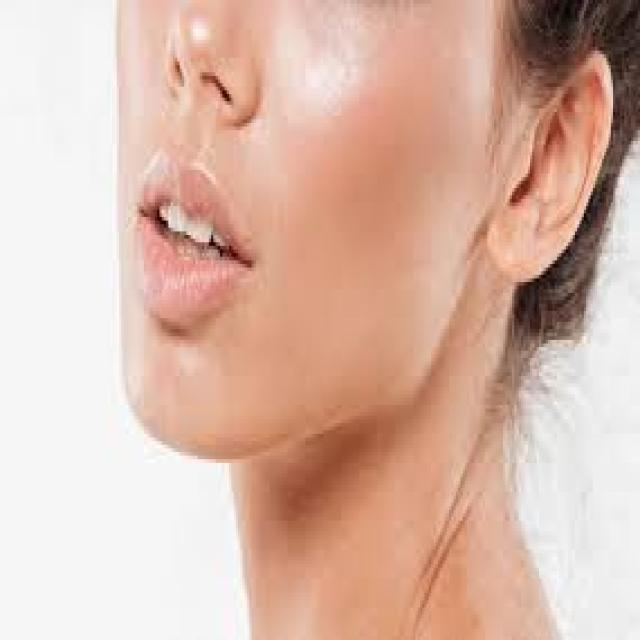oily: (256, 13, 445, 260), (124, 340, 204, 428)
